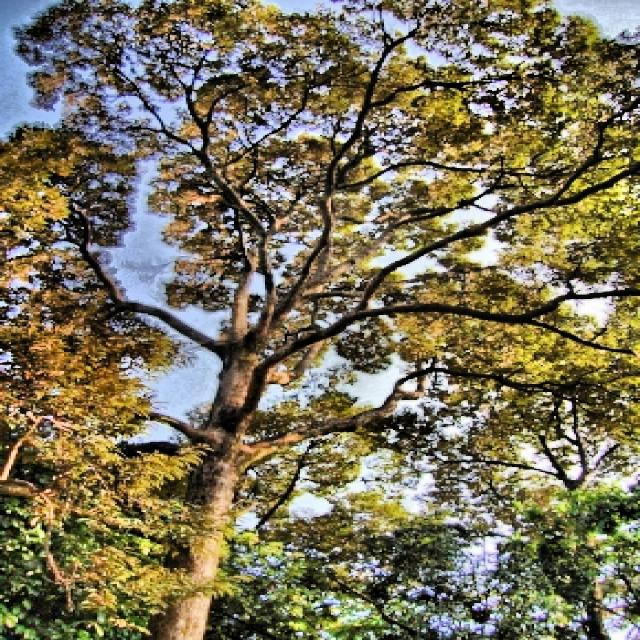arvore: (149, 265, 251, 640)
